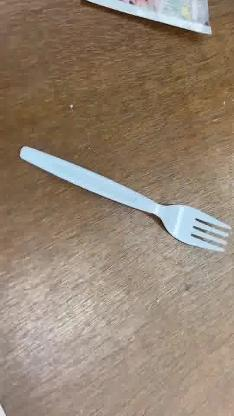Others: (18, 144, 230, 254)
